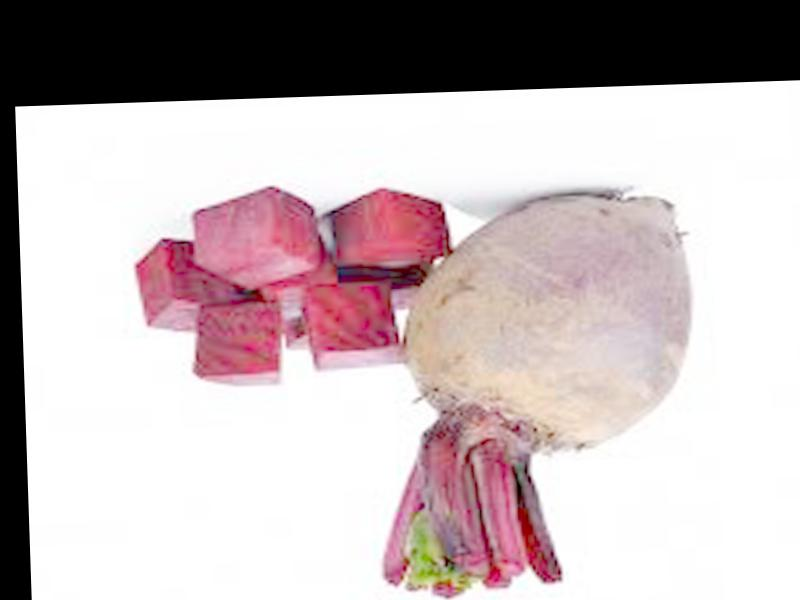Beet: (370, 188, 700, 597)
